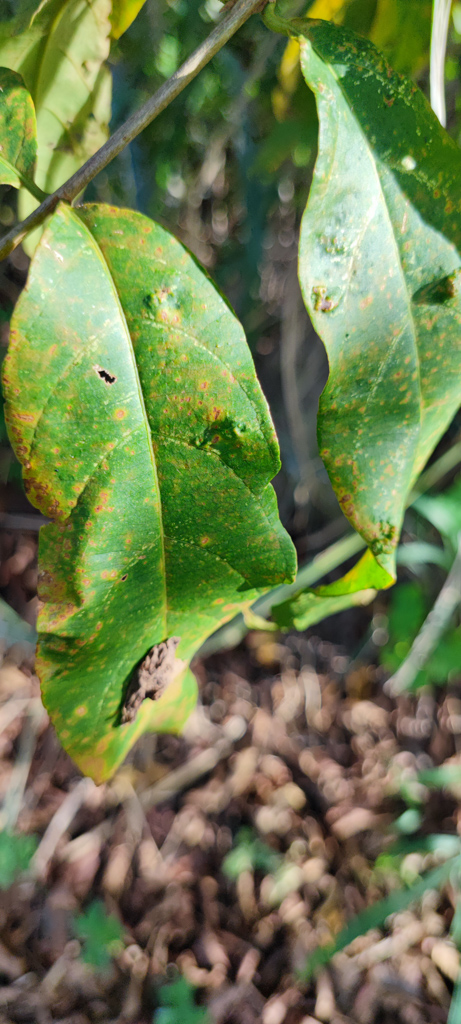frog-eye leafspot: (10, 201, 296, 799), (282, 30, 455, 603)
